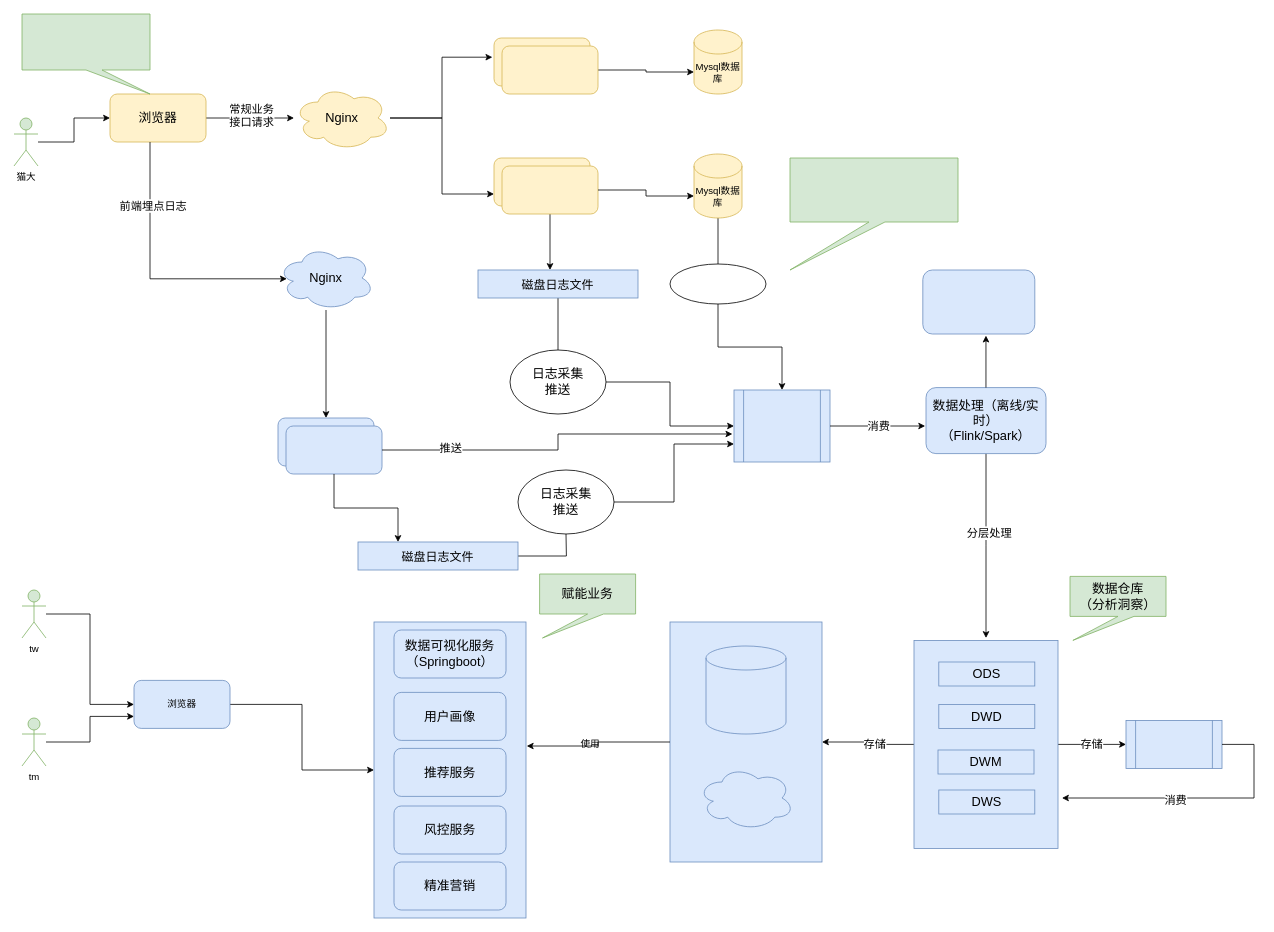
Some shapes in this 1274 by 932 pixel diagram are drawn without their labels. The shapes that lost their labels are listed below. From the top down, each one's centre as x and y in pixels, then its label:
At [85,53]: "用户行为数据：浏览，点击，下单，停留等".
At [549,69]: "业务服务器A （SpringCloud）".
At [549,189]: "业务服务器B （SpringCloud）".
At [873,213]: "业务数据：注册，登录，营销，下单，支付等".
At [717,283]: "Binlog监听".
At [978,301]: "数据存储 （HDFS）".
At [781,425]: "队列缓冲 （Kafka）".
At [333,449]: "日志服务 （Springboot）".
At [745,689]: "Mysql ElasticSearch ClickHouse Hbase".
At [1173,744]: "队列 （Kafka）".
At [745,797]: "NoSql （Redis）".
